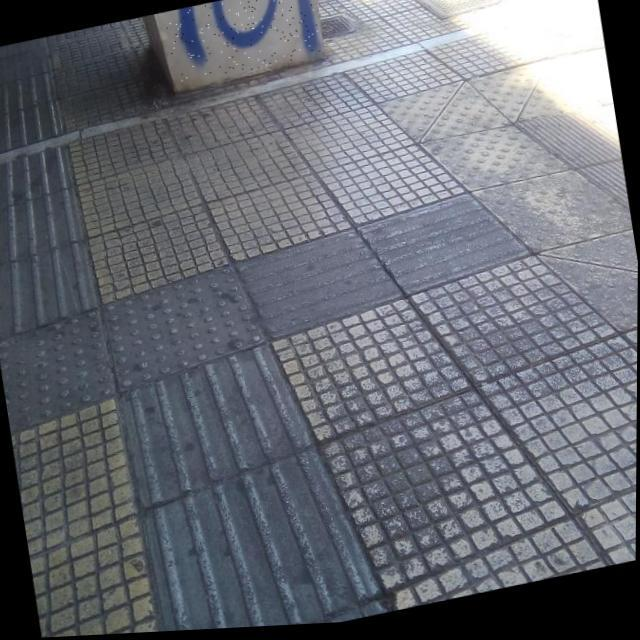-: (163, 0, 323, 87)
